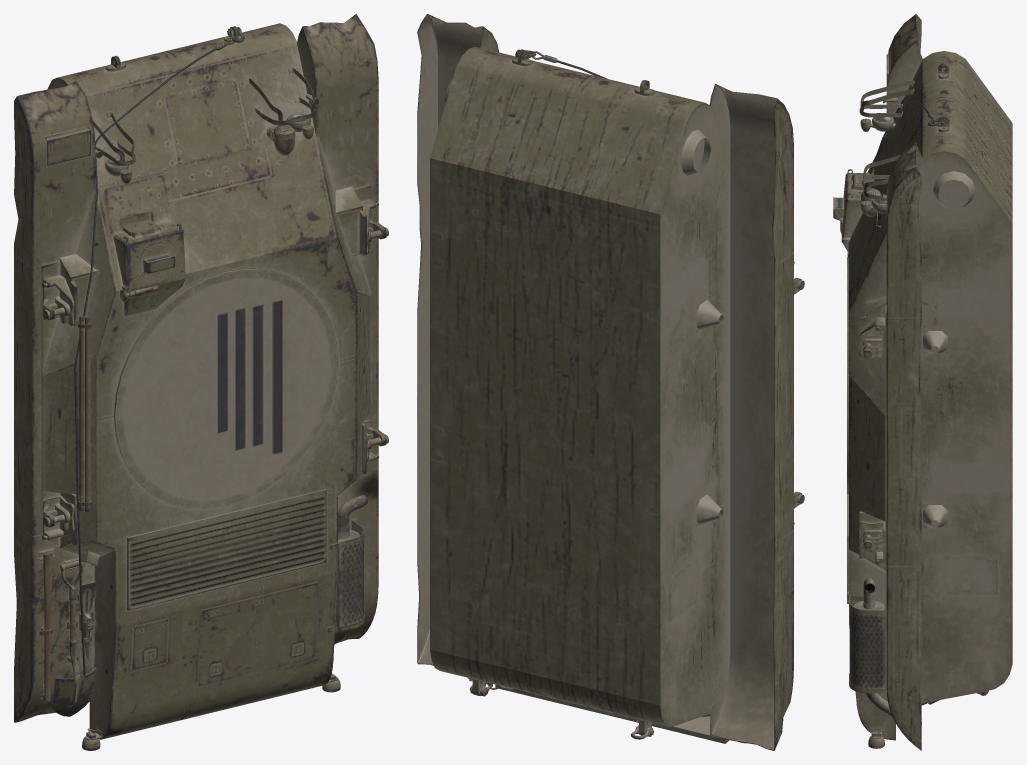
The model's file is Hull.glb.
3 views of the same model, side by side, from view 1: azimuth 30°, elevation 25°; view 2: azimuth 150°, elevation 25°; view 3: azimuth 270°, elevation 25° (orthographic). The views are drawn at different scales.
Parts seen in each view (by area): view 1: set_0_group_0; view 2: set_0_group_0; view 3: set_0_group_0.
Boxes of the visible parts, x1,y1,x2,y2 form: set_0_group_0: (14, 14, 388, 750); set_0_group_0: (417, 14, 804, 750); set_0_group_0: (833, 14, 1012, 750).
Bounding box in the file's own units: 2.2 × 3.95 × 1.07.
1 material, 1 textured.
